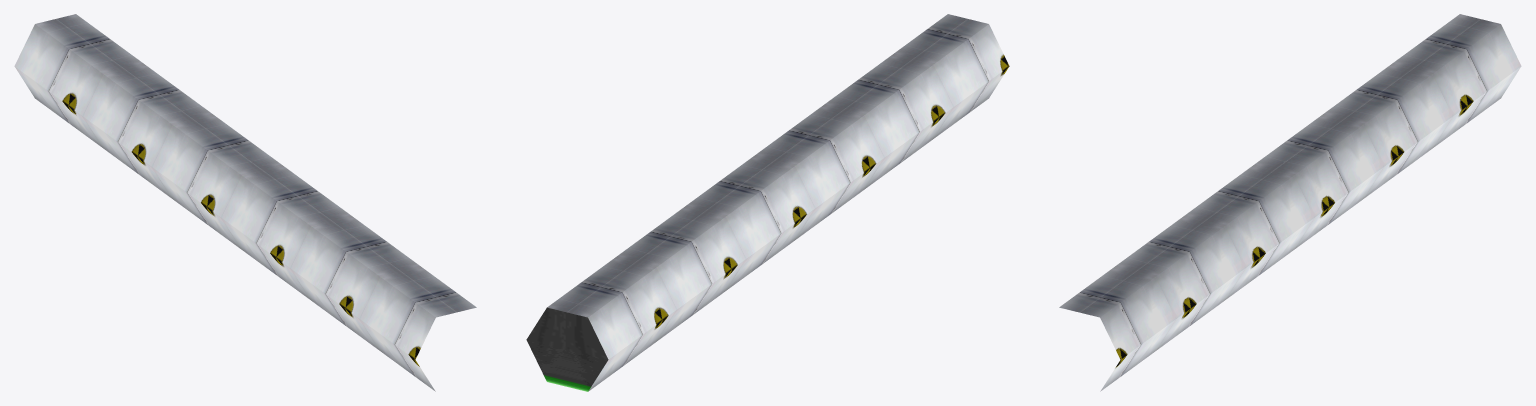
The picture shows the model from 3 angles, left to right: view 1: azimuth 30°, elevation 25°; view 2: azimuth 150°, elevation 25°; view 3: azimuth 330°, elevation 25°; orthographic projection.
Visible parts, largest first — view 1: Cylinder01; view 2: Cylinder01; view 3: Cylinder01.
Boxes of the visible parts, box(x1,y1,x2,y2) form: Cylinder01: box(14, 14, 476, 391); Cylinder01: box(526, 14, 1009, 391); Cylinder01: box(1059, 14, 1521, 391).
Bounding box in the file's own units: 423 × 366 × 3575.
2 materials, 2 textured.
